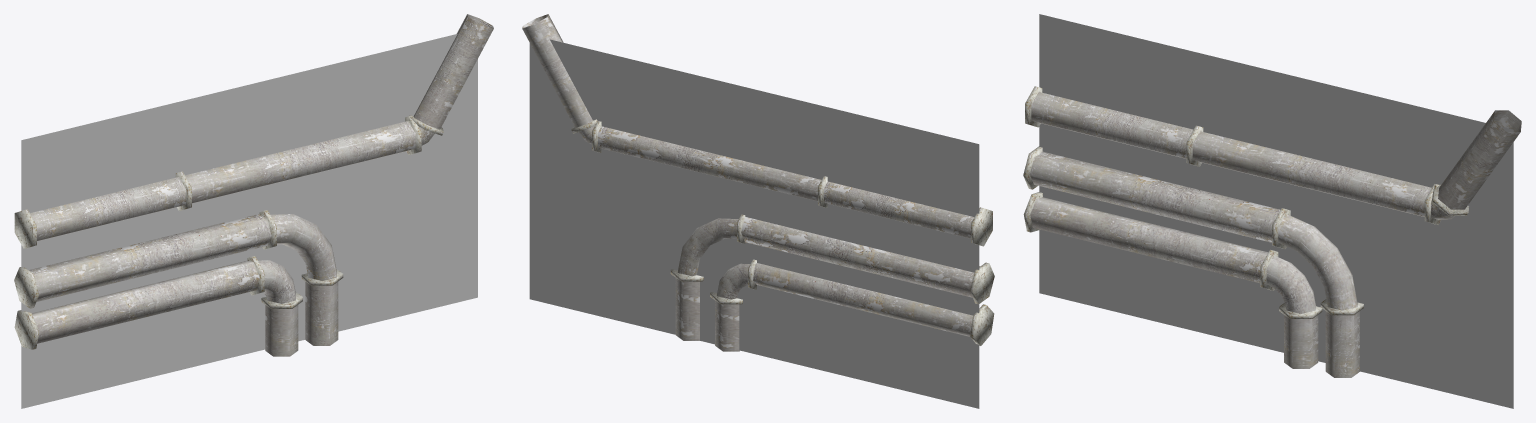
File: Wall2.obj
3 renders of one model, left to right at view 1: azimuth 30°, elevation 25°; view 2: azimuth 150°, elevation 25°; view 3: azimuth 330°, elevation 25°, orthographic. The views are drawn at different scales.
Visible parts, largest first — view 1: Wall_s2, pasted__PipeSet1 pipesWall2 WC_Pipes3:polySurface642, pasted__PipeSet1 pipesWall2 WC_Pipes3:polySurface667, pasted__PipeSet1 pipesWall2 group1 WC_Pipes3:polySurface675, pasted__PipeSet1 pipesWall2 group1 polySurface675, pasted__PipeSet1 pipesWall2 WC_Pipes3:polySurface671 group1, WC_Pipes3:polySurface645 pasted__PipeSet1 pipesWall2, pasted__PipeSet1 pipesWall2 WC_Pipes3:polySurface668, pasted__PipeSet1 pipesWall2 WC_Pipes3:polySurface669, pasted__PipeSet1 pipesWall2 WC_Pipes3:polySurface665, pasted__PipeSet1 pipesWall2 group1 WC_Pipes3:polySurface674; view 2: Wall_s2, pasted__PipeSet1 pipesWall2 WC_Pipes3:polySurface642, pasted__PipeSet1 pipesWall2 WC_Pipes3:polySurface667, pasted__PipeSet1 pipesWall2 group1 WC_Pipes3:polySurface675, pasted__PipeSet1 pipesWall2 group1 polySurface675, pasted__PipeSet1 pipesWall2 WC_Pipes3:polySurface671 group1, WC_Pipes3:polySurface645 pasted__PipeSet1 pipesWall2, pasted__PipeSet1 pipesWall2 WC_Pipes3:polySurface668, pasted__PipeSet1 pipesWall2 WC_Pipes3:polySurface669, pasted__PipeSet1 pipesWall2 WC_Pipes3:polySurface665; view 3: Wall_s2, pasted__PipeSet1 pipesWall2 WC_Pipes3:polySurface642, pasted__PipeSet1 pipesWall2 WC_Pipes3:polySurface667, pasted__PipeSet1 pipesWall2 group1 WC_Pipes3:polySurface675, pasted__PipeSet1 pipesWall2 group1 polySurface675, pasted__PipeSet1 pipesWall2 WC_Pipes3:polySurface671 group1, WC_Pipes3:polySurface645 pasted__PipeSet1 pipesWall2, pasted__PipeSet1 pipesWall2 WC_Pipes3:polySurface668, pasted__PipeSet1 pipesWall2 WC_Pipes3:polySurface665, pasted__PipeSet1 pipesWall2 WC_Pipes3:polySurface669, pasted__PipeSet1 pipesWall2 group1 WC_Pipes3:polySurface674.
Boxes of the visible parts, <box> form: Wall_s2: <box>21,34,477,408</box>; pasted__PipeSet1 pipesWall2 WC_Pipes3:polySurface642: <box>14,214,271,308</box>; pasted__PipeSet1 pipesWall2 WC_Pipes3:polySurface667: <box>14,260,259,349</box>; pasted__PipeSet1 pipesWall2 group1 WC_Pipes3:polySurface675: <box>175,121,415,210</box>; pasted__PipeSet1 pipesWall2 group1 polySurface675: <box>14,177,185,248</box>; pasted__PipeSet1 pipesWall2 WC_Pipes3:polySurface671 group1: <box>408,14,493,135</box>; WC_Pipes3:polySurface645 pasted__PipeSet1 pipesWall2: <box>259,210,336,280</box>; pasted__PipeSet1 pipesWall2 WC_Pipes3:polySurface668: <box>301,269,343,345</box>; pasted__PipeSet1 pipesWall2 WC_Pipes3:polySurface669: <box>261,292,302,356</box>; pasted__PipeSet1 pipesWall2 WC_Pipes3:polySurface665: <box>247,256,295,303</box>; pasted__PipeSet1 pipesWall2 group1 WC_Pipes3:polySurface674: <box>405,115,434,154</box>; Wall_s2: <box>529,39,979,408</box>; pasted__PipeSet1 pipesWall2 WC_Pipes3:polySurface642: <box>741,217,994,304</box>; pasted__PipeSet1 pipesWall2 WC_Pipes3:polySurface667: <box>753,263,994,345</box>; pasted__PipeSet1 pipesWall2 group1 WC_Pipes3:polySurface675: <box>598,126,827,207</box>; pasted__PipeSet1 pipesWall2 group1 polySurface675: <box>824,181,992,246</box>; pasted__PipeSet1 pipesWall2 WC_Pipes3:polySurface671 group1: <box>522,14,597,133</box>; WC_Pipes3:polySurface645 pasted__PipeSet1 pipesWall2: <box>678,214,745,276</box>; pasted__PipeSet1 pipesWall2 WC_Pipes3:polySurface668: <box>670,269,703,340</box>; pasted__PipeSet1 pipesWall2 WC_Pipes3:polySurface669: <box>710,292,742,351</box>; pasted__PipeSet1 pipesWall2 WC_Pipes3:polySurface665: <box>717,259,756,299</box>; Wall_s2: <box>1039,14,1513,408</box>; pasted__PipeSet1 pipesWall2 WC_Pipes3:polySurface642: <box>1023,146,1280,242</box>; pasted__PipeSet1 pipesWall2 WC_Pipes3:polySurface667: <box>1023,192,1268,283</box>; pasted__PipeSet1 pipesWall2 group1 WC_Pipes3:polySurface675: <box>1186,125,1431,216</box>; pasted__PipeSet1 pipesWall2 group1 polySurface675: <box>1025,86,1193,158</box>; pasted__PipeSet1 pipesWall2 WC_Pipes3:polySurface671 group1: <box>1432,110,1521,215</box>; WC_Pipes3:polySurface645 pasted__PipeSet1 pipesWall2: <box>1272,208,1357,310</box>; pasted__PipeSet1 pipesWall2 WC_Pipes3:polySurface668: <box>1320,299,1363,377</box>; pasted__PipeSet1 pipesWall2 WC_Pipes3:polySurface665: <box>1260,249,1315,313</box>; pasted__PipeSet1 pipesWall2 WC_Pipes3:polySurface669: <box>1279,302,1322,368</box>; pasted__PipeSet1 pipesWall2 group1 WC_Pipes3:polySurface674: <box>1424,184,1454,224</box>.
Bounding box in the file's own units: 16.42 × 9.65 × 1.3.
